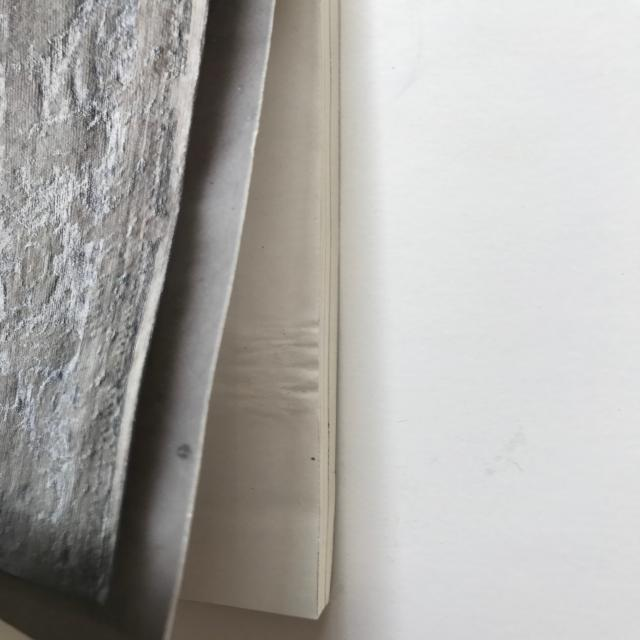Paper: (0, 0, 351, 640)
